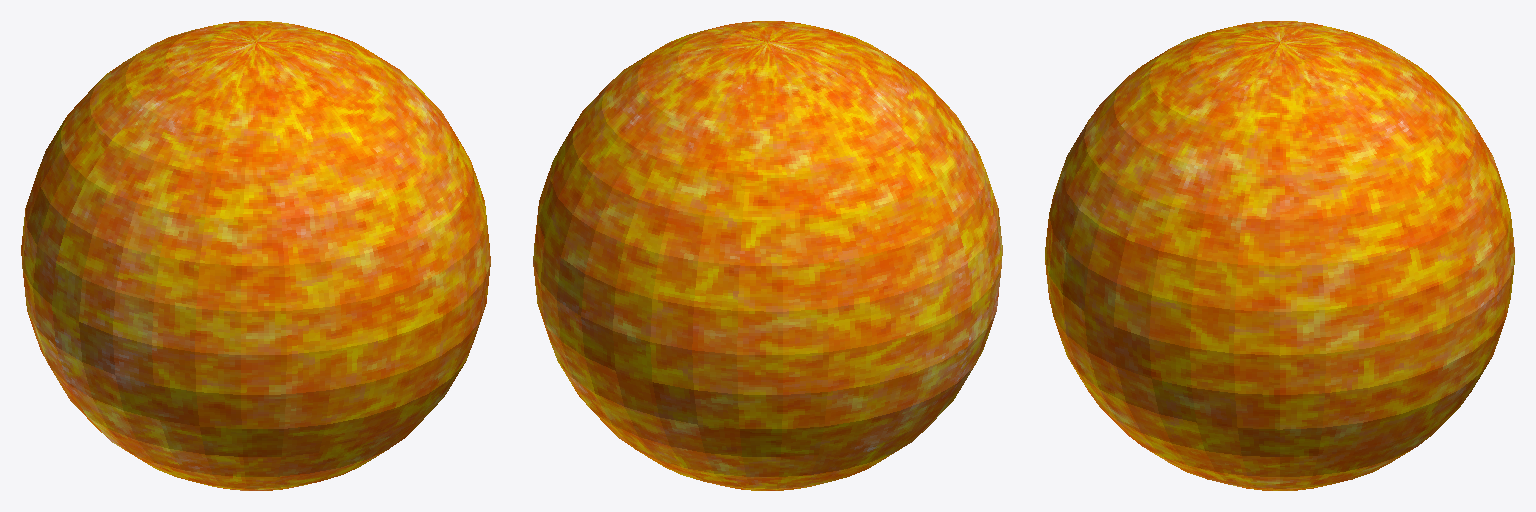
3 renders of one model, left to right at view 1: azimuth 30°, elevation 25°; view 2: azimuth 150°, elevation 25°; view 3: azimuth 270°, elevation 25°, orthographic.
Parts seen in each view (by area): view 1: 球; view 2: 球; view 3: 球.
Part boxes in pixels (left/top/right/bottom): 球: left=21, top=21, right=490, bottom=490; 球: left=533, top=21, right=1002, bottom=490; 球: left=1045, top=21, right=1514, bottom=490.
Size of the model in its own units: 1 by 1 by 1.
1 materials, 1 textured.